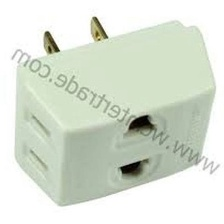three_eye_plug: (8, 8, 221, 216)
